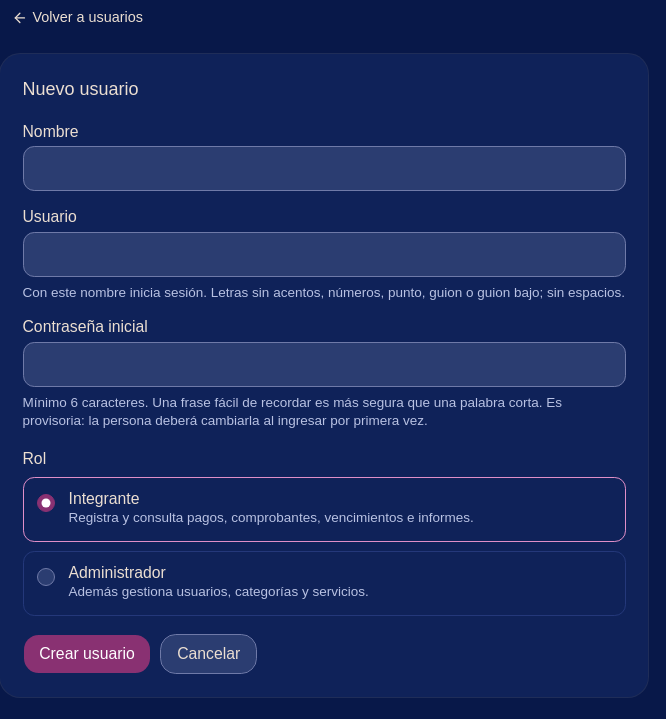
Test: NewUserPage › muestra junto al campo que el usuario ya existe
In the field labelled "Nombre": (324, 169) x1=22 y1=146 x2=626 y2=191, type "Leo Pérez"
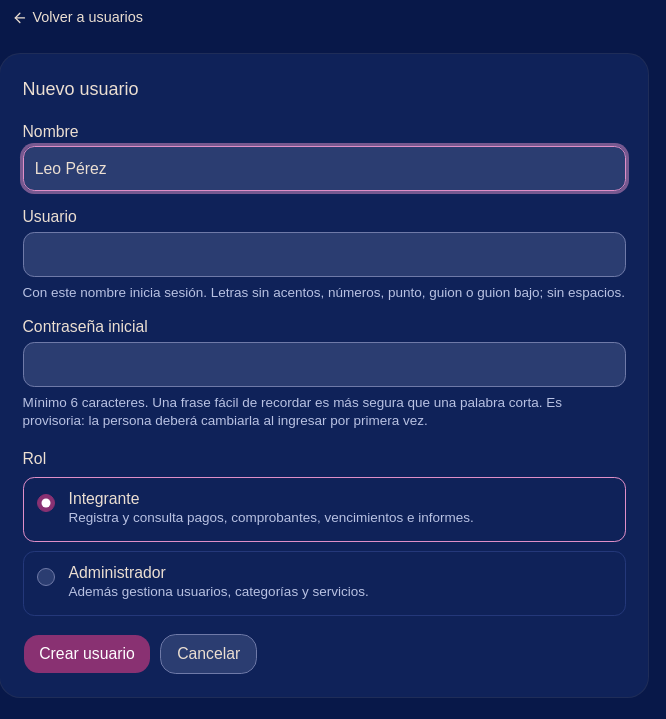
In the field labelled "Usuario": (324, 254) x1=22 y1=232 x2=626 y2=277, type "leo"
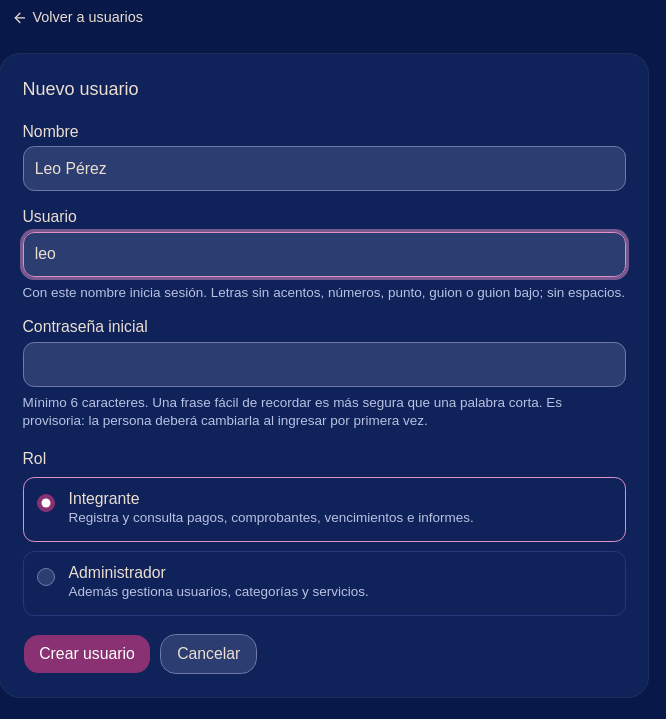
In the password field labelled "Contraseña inicial": (324, 364) x1=22 y1=342 x2=626 y2=387, type "una-contraseña-larga"
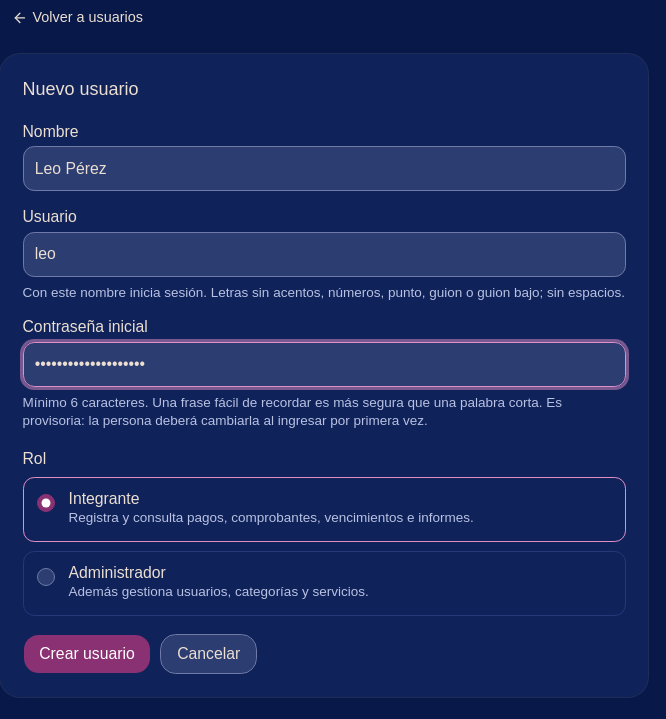
Click the button "Crear usuario": (87, 654) x1=22 y1=634 x2=151 y2=674
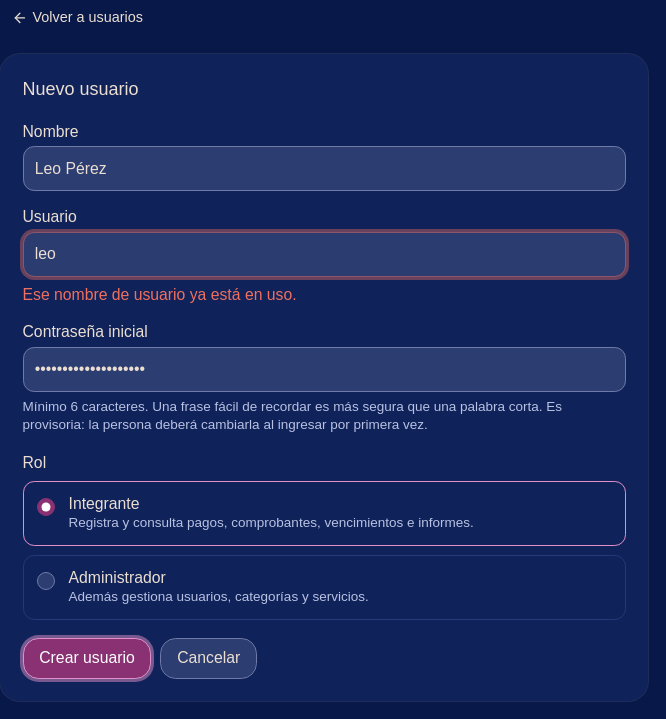
Check: the text "Ese nombre de usuario ya está en uso." is shown, box x1=22 y1=286 x2=296 y2=302
